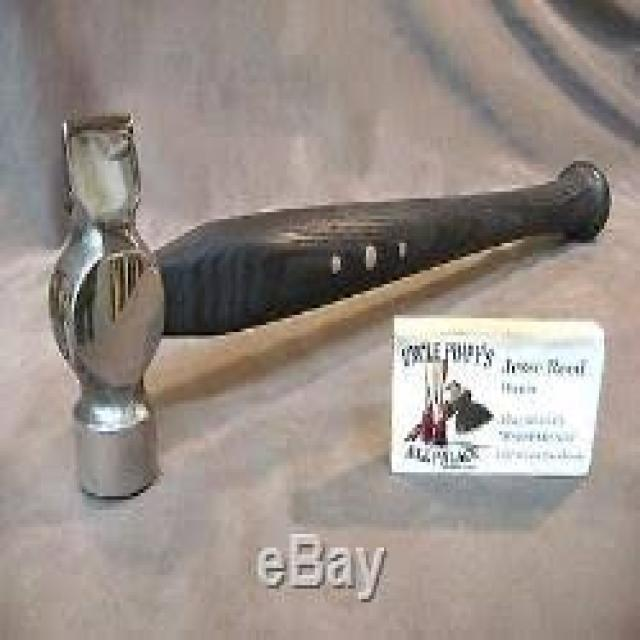hammer: (42, 99, 618, 507)
